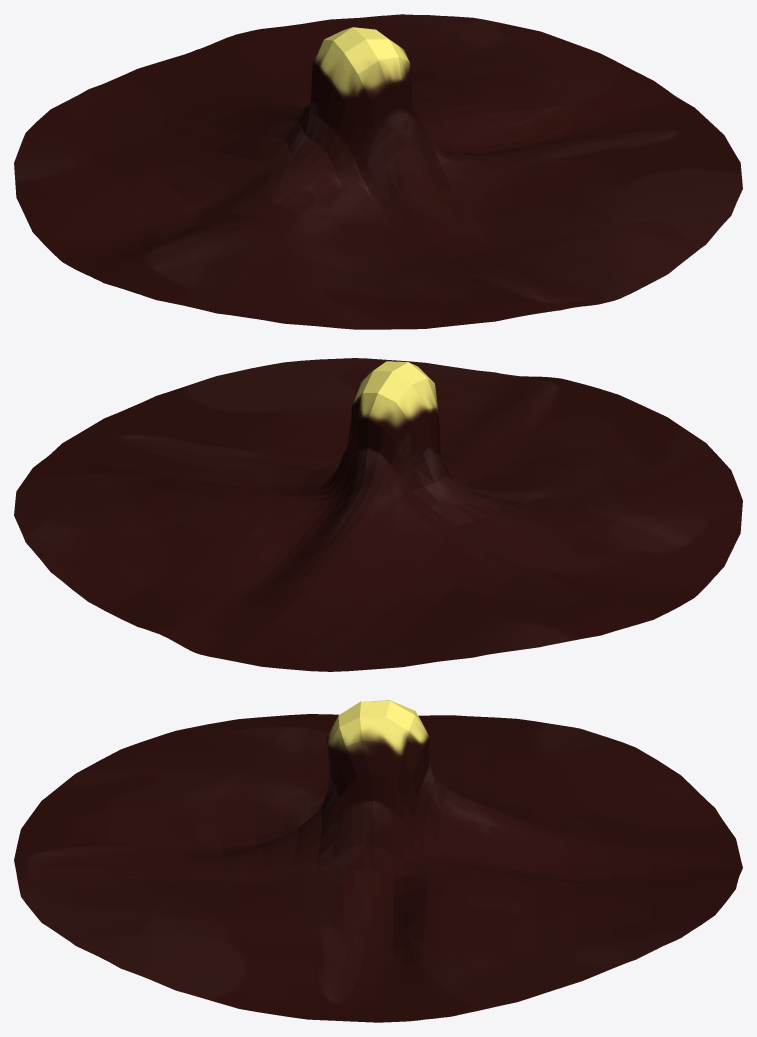
File: island.obj
The picture shows the model from 3 angles, top to bottom: view 1: azimuth 30°, elevation 25°; view 2: azimuth 150°, elevation 25°; view 3: azimuth 270°, elevation 25°; orthographic projection.
Visible parts, largest first — view 1: Plane; view 2: Plane; view 3: Plane.
Boxes of the visible parts, x1,y1,x2,y2 form: Plane: (14,14,742,329); Plane: (14,358,742,671); Plane: (14,700,742,1022).
Bounding box in the file's own units: 44.68 × 10.68 × 44.68.
